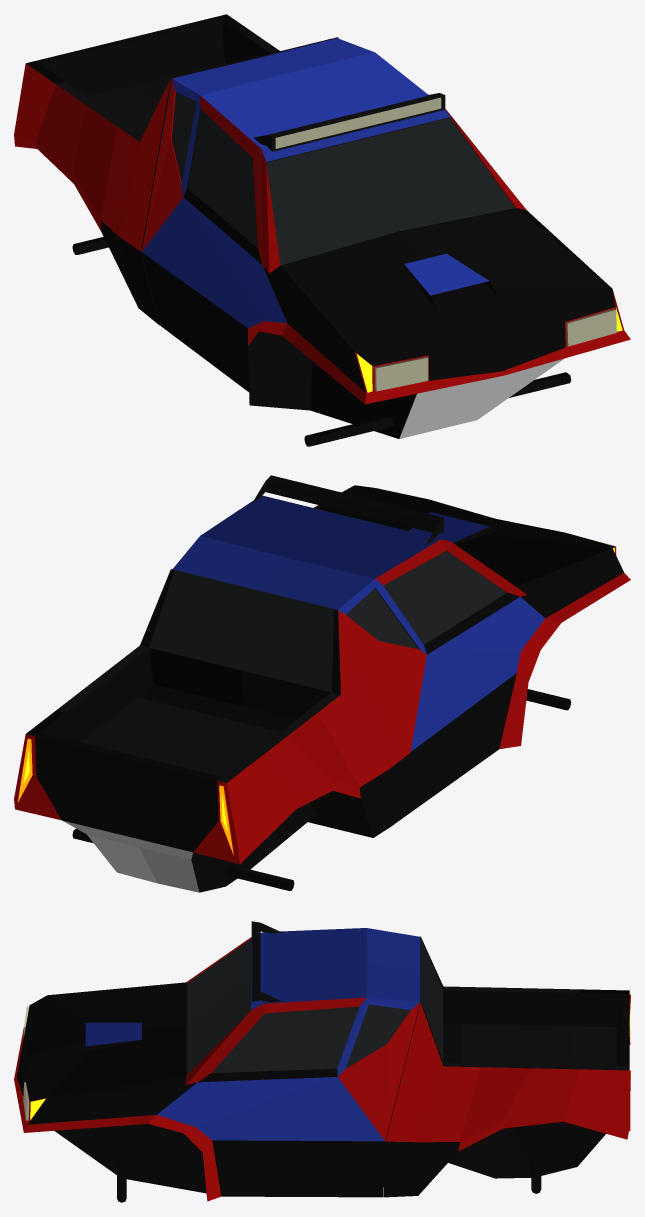
File: CarroMaster.fbx
3 renders of one model, top to bottom at view 1: azimuth 30°, elevation 25°; view 2: azimuth 150°, elevation 25°; view 3: azimuth 270°, elevation 25°, orthographic. The views are drawn at different scales.
Visible parts, largest first — view 1: Cube; view 2: Cube; view 3: Cube.
Part boxes in pixels (x1,y1,x2,y2): Cube: [14, 14, 630, 446]; Cube: [14, 475, 630, 892]; Cube: [14, 921, 630, 1202].
Bounding box in the file's own units: 86.01 × 74.79 × 200.
